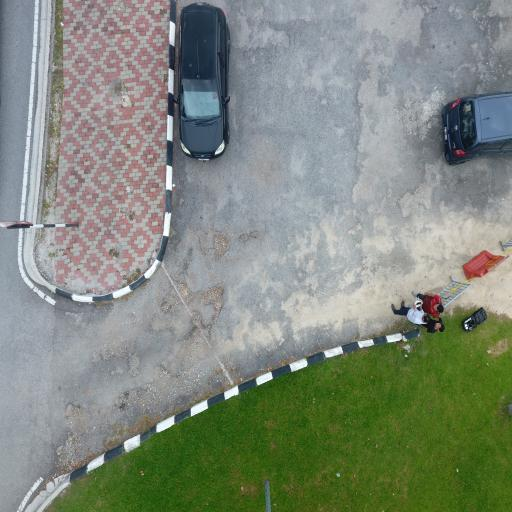pothole: (128, 119, 388, 355), (121, 122, 368, 363), (107, 130, 325, 389)
